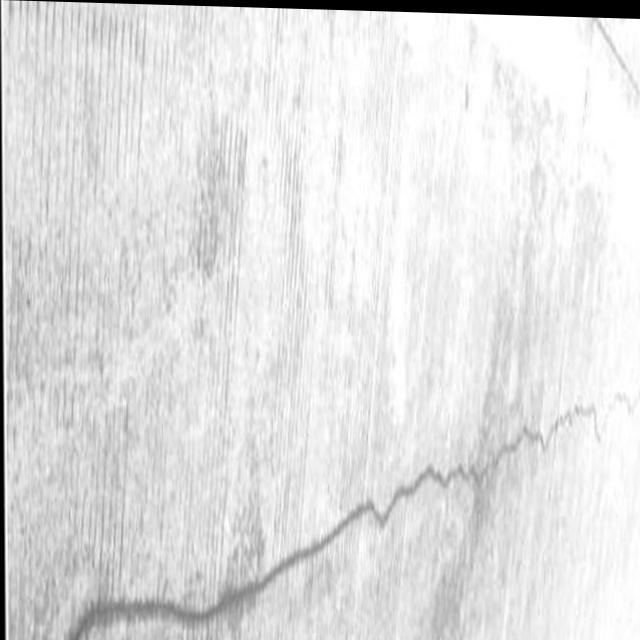Crack: (48, 416, 431, 640), (444, 387, 633, 514)
